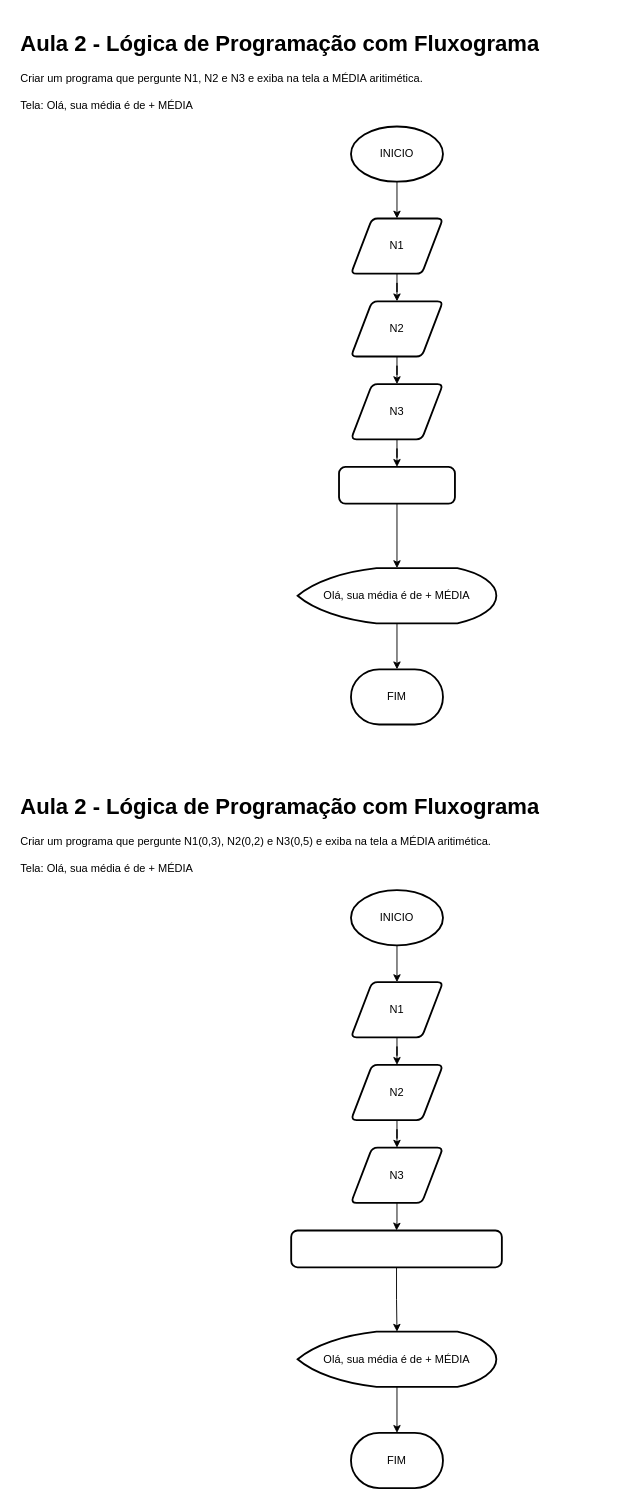
This 620x1504 diagram has some shape labels left out. Here are the shapes that lost their labels. From the top down, the centre of each, then its label:
At (396,485): "MÉDIA (N1 + N2 + N3)/3".
At (396,1248): "MÉDIA (N1 * 03) + (N2 * 0,2) + (N3 * 0,5)".
